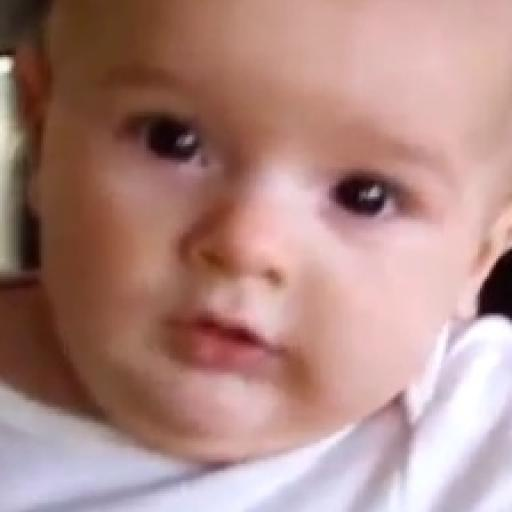Autism: (50, 8, 510, 428)
